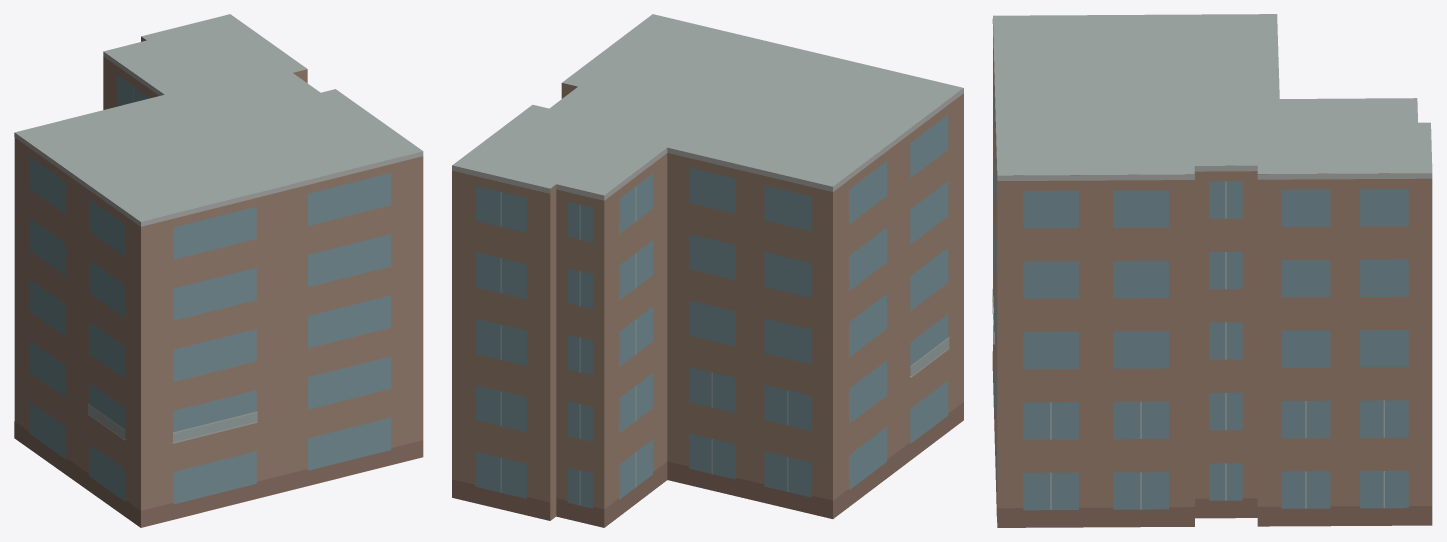
File: survey-upis-32750101.glb
3 views of the same model, side by side, from view 1: azimuth 30°, elevation 25°; view 2: azimuth 150°, elevation 25°; view 3: azimuth 270°, elevation 25° (orthographic). The views are drawn at different scales.
Parts seen in each view (by area): view 1: survey-upis-32750101.tmp; view 2: survey-upis-32750101.tmp; view 3: survey-upis-32750101.tmp.
Boxes of the visible parts, box(x1,y1,x2,y2) form: survey-upis-32750101.tmp: box(14, 14, 423, 527); survey-upis-32750101.tmp: box(452, 14, 963, 527); survey-upis-32750101.tmp: box(992, 14, 1432, 527).
Bounding box in the file's own units: 15.2 × 15.45 × 17.49.
